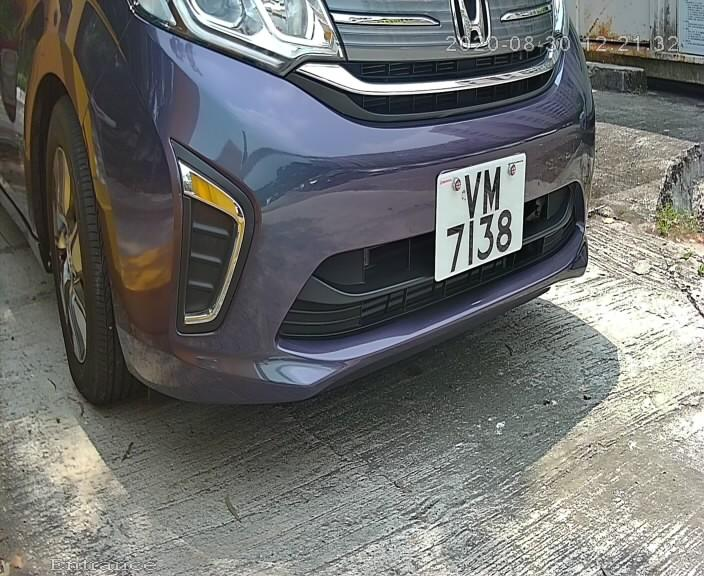License Plate: (428, 142, 535, 294)
